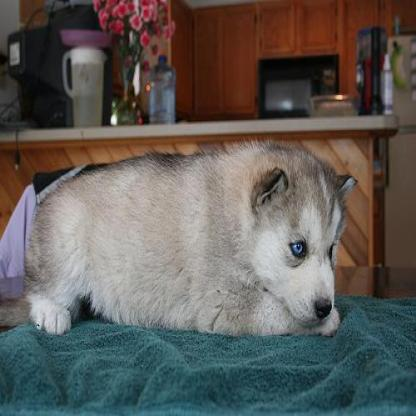Siberian_husky: (22, 140, 353, 332)
